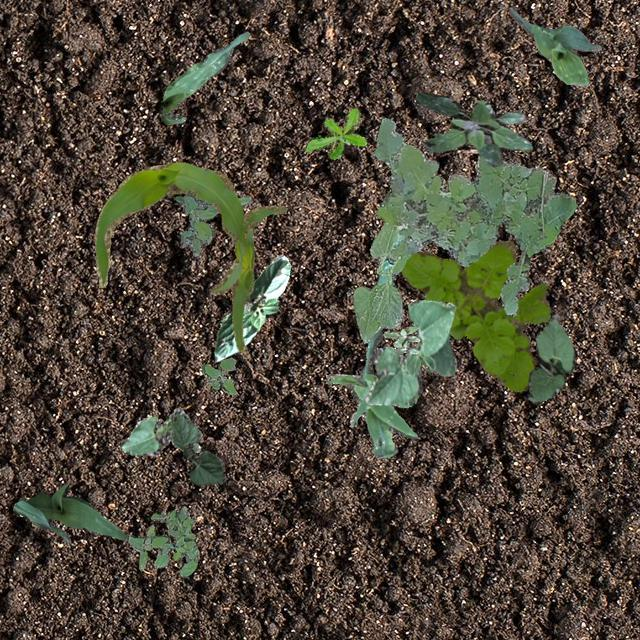crop: (94, 160, 286, 352), (324, 327, 416, 458), (364, 298, 456, 406), (212, 254, 290, 360), (160, 31, 248, 122), (508, 5, 600, 86), (10, 481, 126, 542), (352, 220, 408, 342), (528, 314, 574, 402), (172, 410, 224, 484), (120, 408, 200, 454)
weed: (372, 117, 576, 316), (400, 240, 550, 390), (416, 90, 530, 166), (128, 504, 198, 576), (173, 192, 250, 256), (305, 106, 367, 158), (200, 356, 236, 394), (382, 324, 418, 354)
